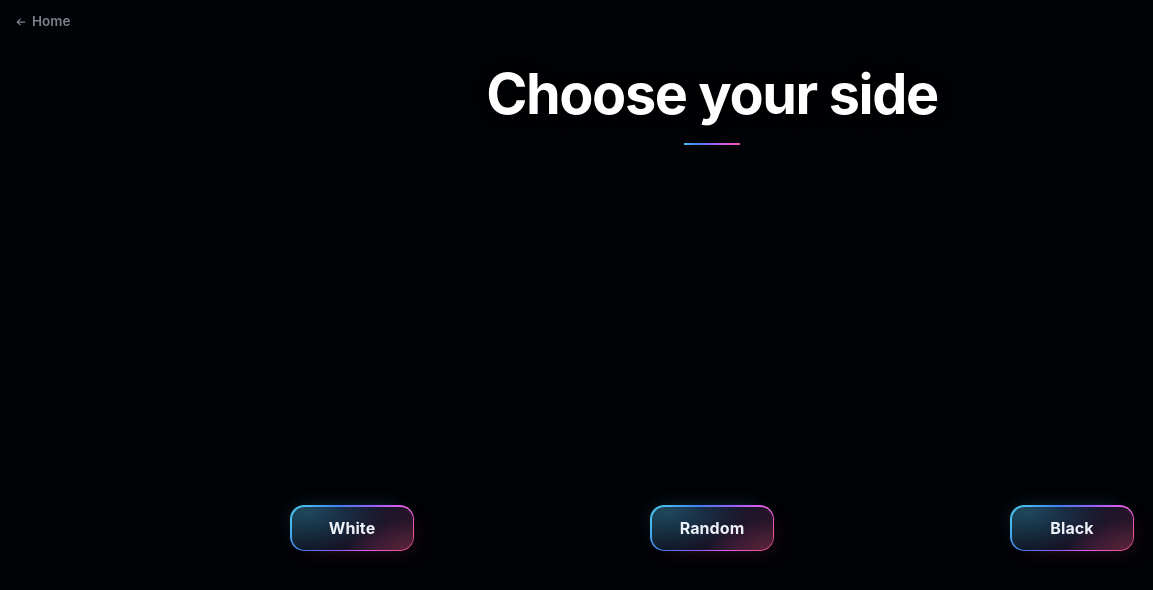
Test case: choosing a side › answers a pick of Random in its heading at once
Check: the heading reads "Choose your side", box [486,60,938,127]
Step 1. Click the button "Random" → [712, 528], box [650,505,774,551]
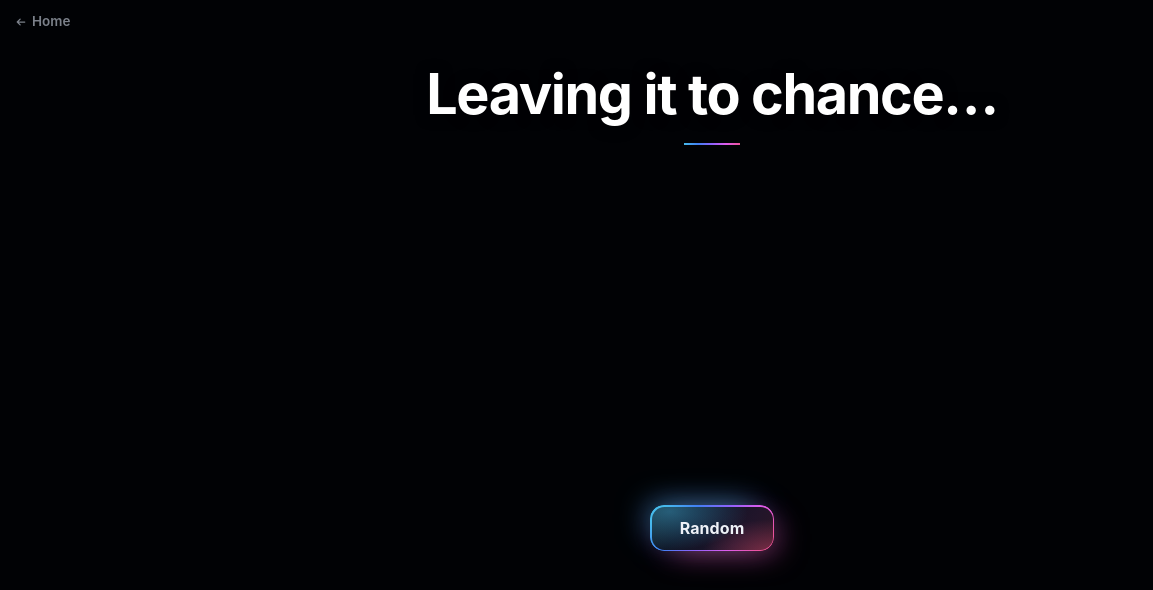
Check: the heading reads "Leaving it to chance…", box [426,60,998,127]
